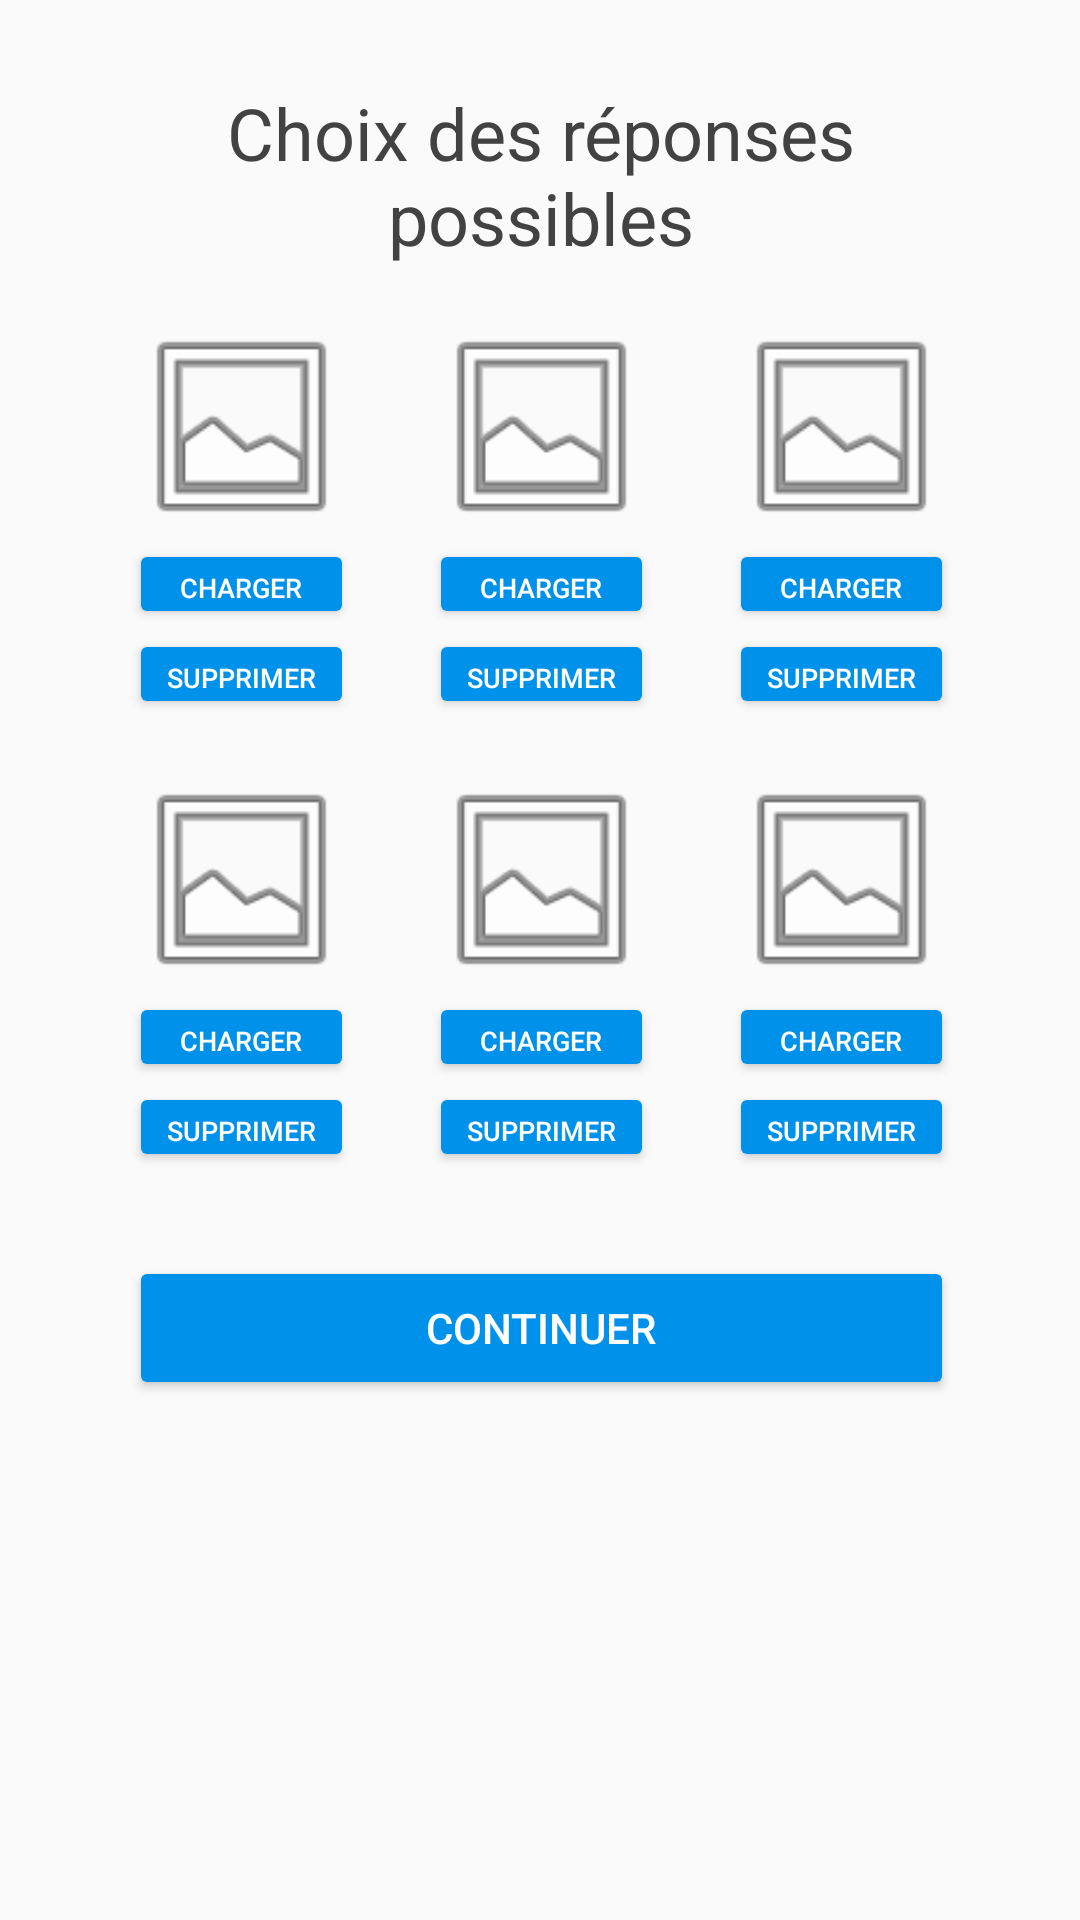

Icons on this 1080w x 1920h Android screen, each with its box as (x1, y1, x2, y2):
gallery: (157, 341, 326, 512), (457, 341, 626, 512), (757, 341, 926, 512), (157, 794, 326, 965), (457, 794, 626, 965), (757, 794, 926, 965)
